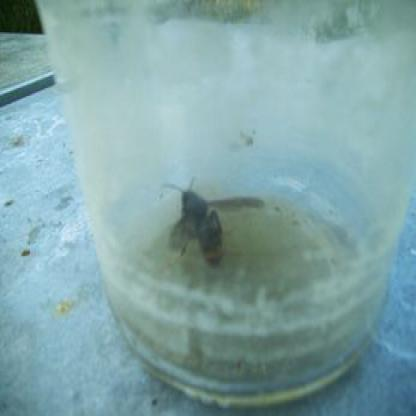Asian Hornet: (161, 174, 227, 272)
